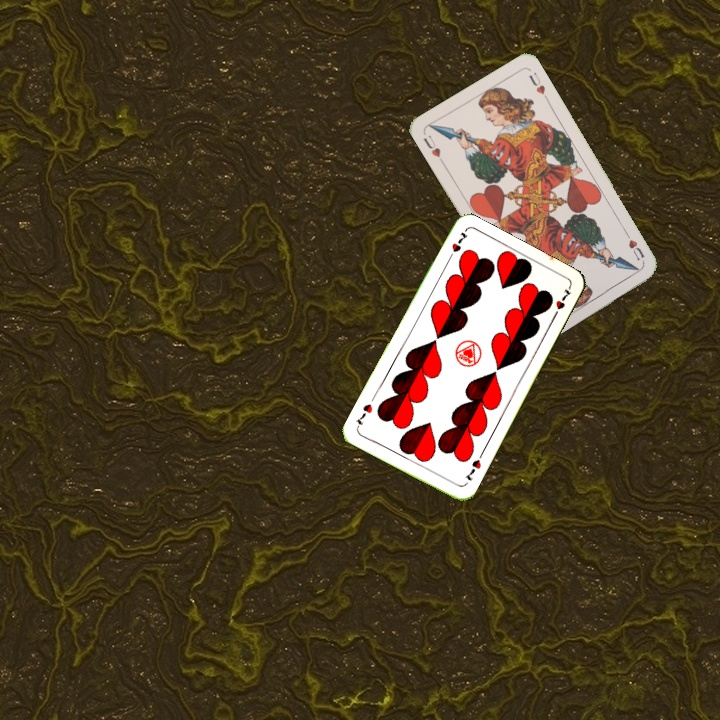H7: (444, 228, 470, 264), (461, 455, 484, 483)
HU: (419, 131, 446, 166), (621, 228, 647, 263)
